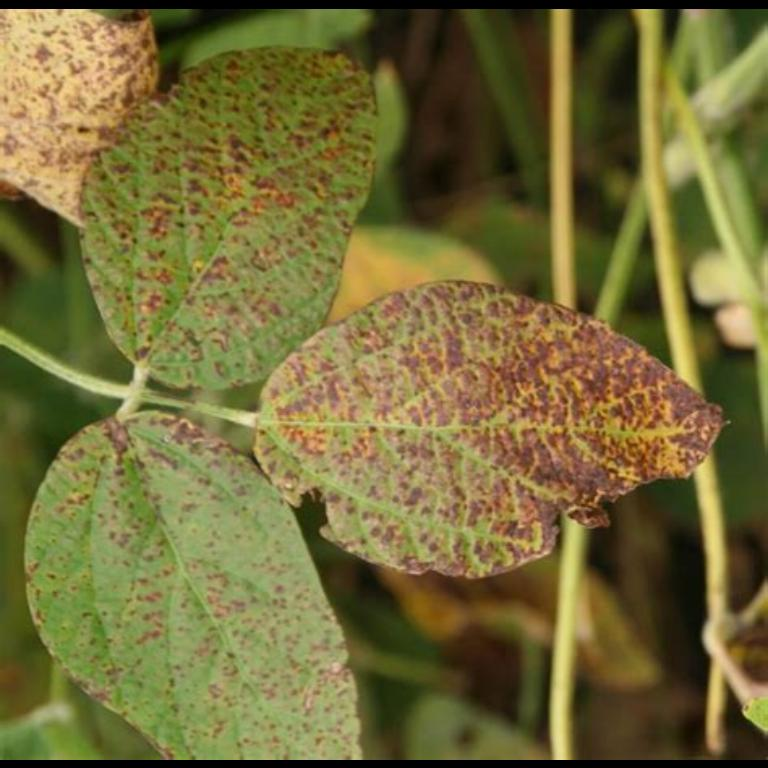blight: (478, 324, 624, 484)
